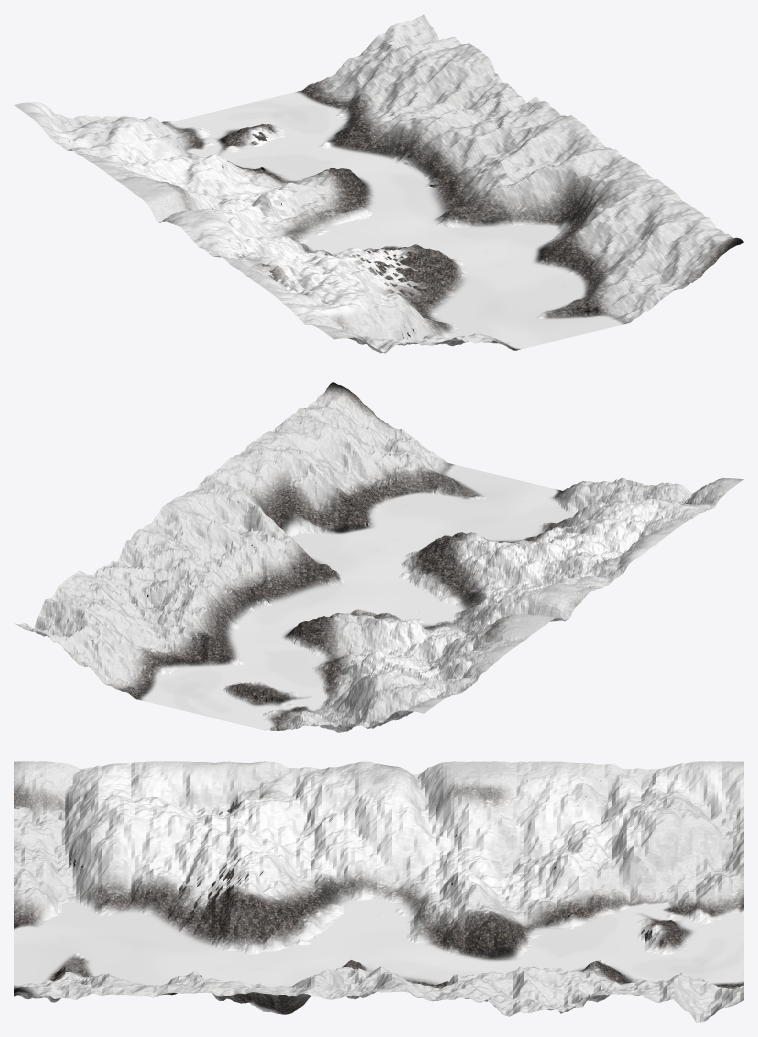
Rendered from basic ass ice hall 1.fbx.
3 views of the same model, one above another, from view 1: azimuth 30°, elevation 25°; view 2: azimuth 150°, elevation 25°; view 3: azimuth 270°, elevation 25° (orthographic). The views are drawn at different scales.
Visible parts, largest first — view 1: Landscape; view 2: Landscape; view 3: Landscape.
Boxes of the visible parts, x1,y1,x2,y2 form: Landscape: [14, 14, 743, 353]; Landscape: [15, 382, 743, 732]; Landscape: [14, 761, 743, 1022].
Size of the model in its own units: 4279 by 562 by 5787.
